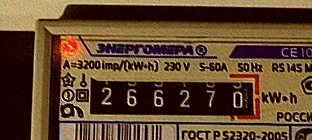0: (231, 88, 243, 109)
2: (99, 84, 113, 105), (178, 87, 190, 108)
6: (125, 86, 138, 107), (151, 87, 164, 106)
7: (203, 87, 216, 108)
screen: (79, 66, 268, 127)
